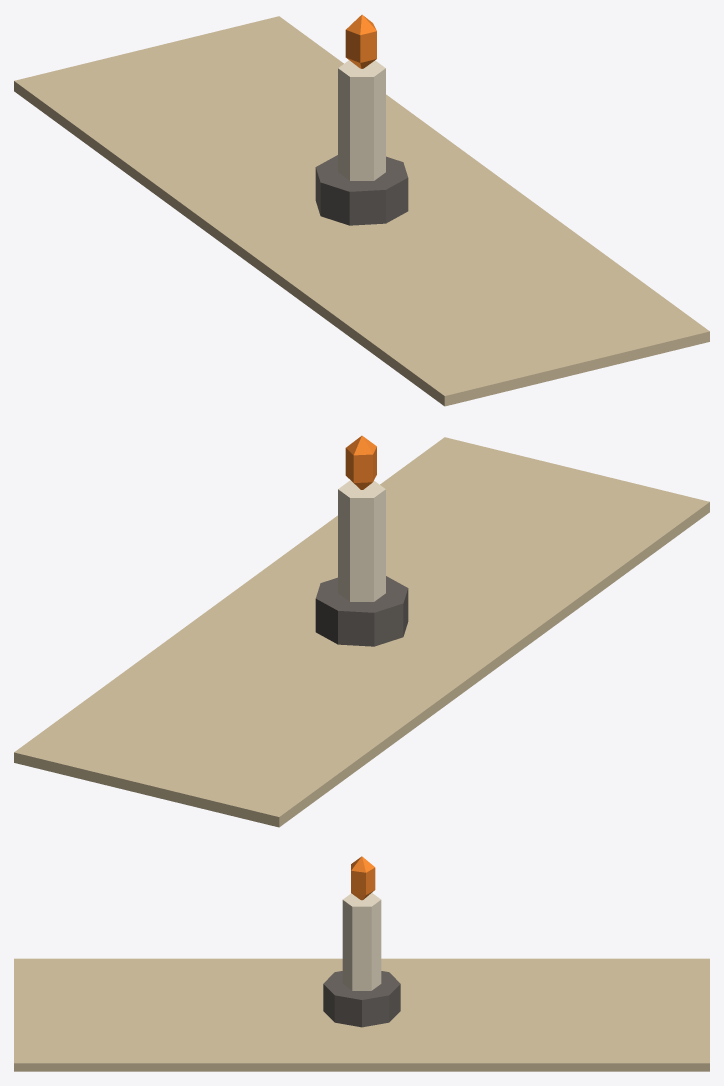
Rendered from PR_Tier_Ortu1.fbx.
3 renders of one model, top to bottom at view 1: azimuth 30°, elevation 25°; view 2: azimuth 150°, elevation 25°; view 3: azimuth 270°, elevation 25°, orthographic. The views are drawn at different scales.
Visible parts, largest first — view 1: PR_Tier_Ortu1; view 2: PR_Tier_Ortu1; view 3: PR_Tier_Ortu1.
Part boxes in pixels (x1,y1,x2,y2): PR_Tier_Ortu1: (14,14,709,406); PR_Tier_Ortu1: (14,435,709,827); PR_Tier_Ortu1: (14,856,709,1071).
Bounding box in the file's own units: 0.32 × 0.233 × 0.9.
Materials: 1 (1 with a texture image).
